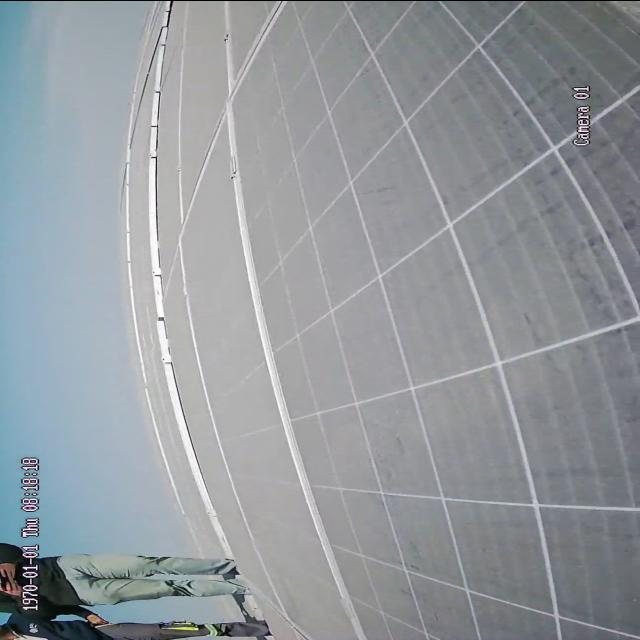interior panel: (220, 5, 376, 640)
